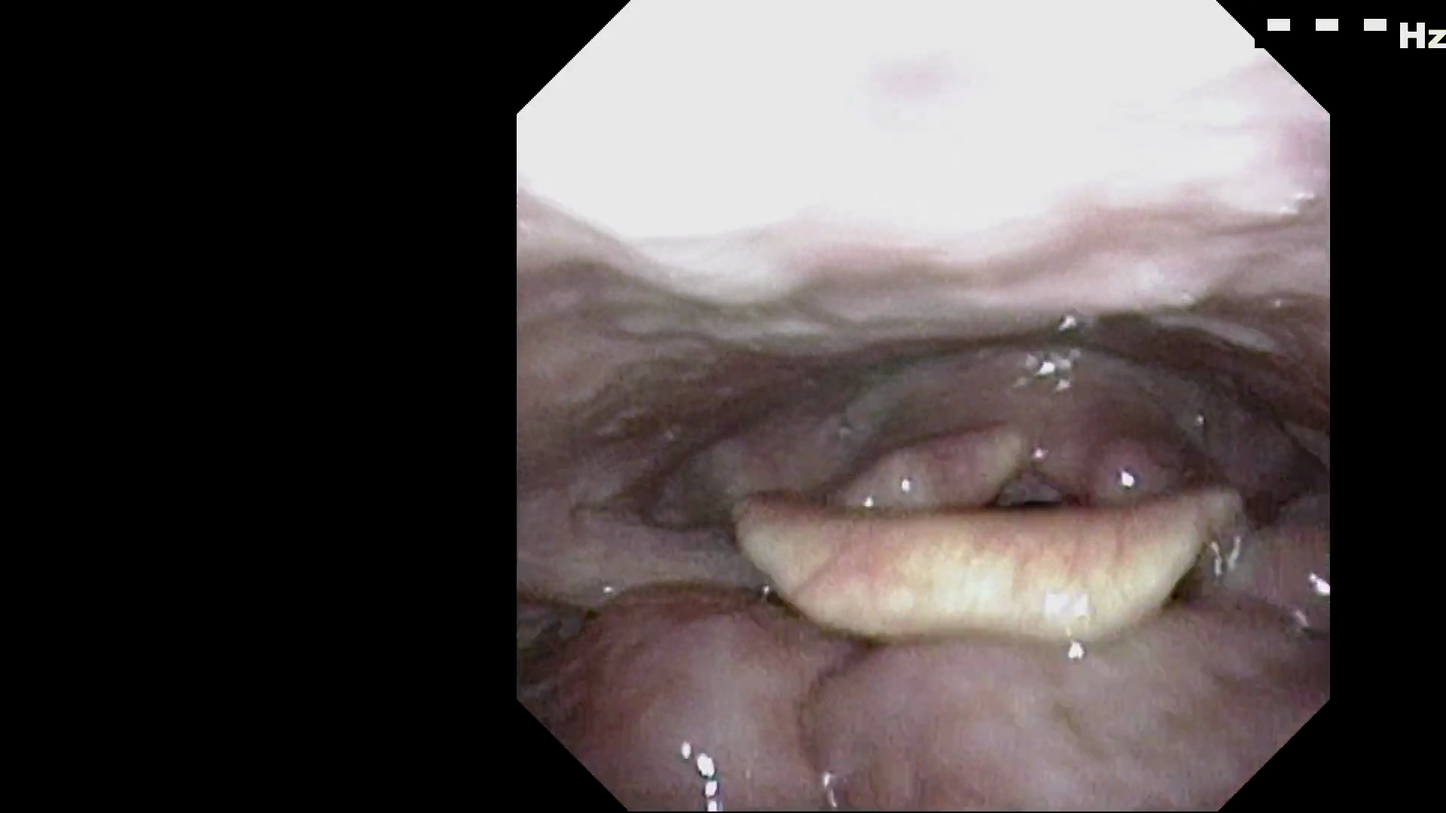epiglottis: (712, 480, 1253, 619)
